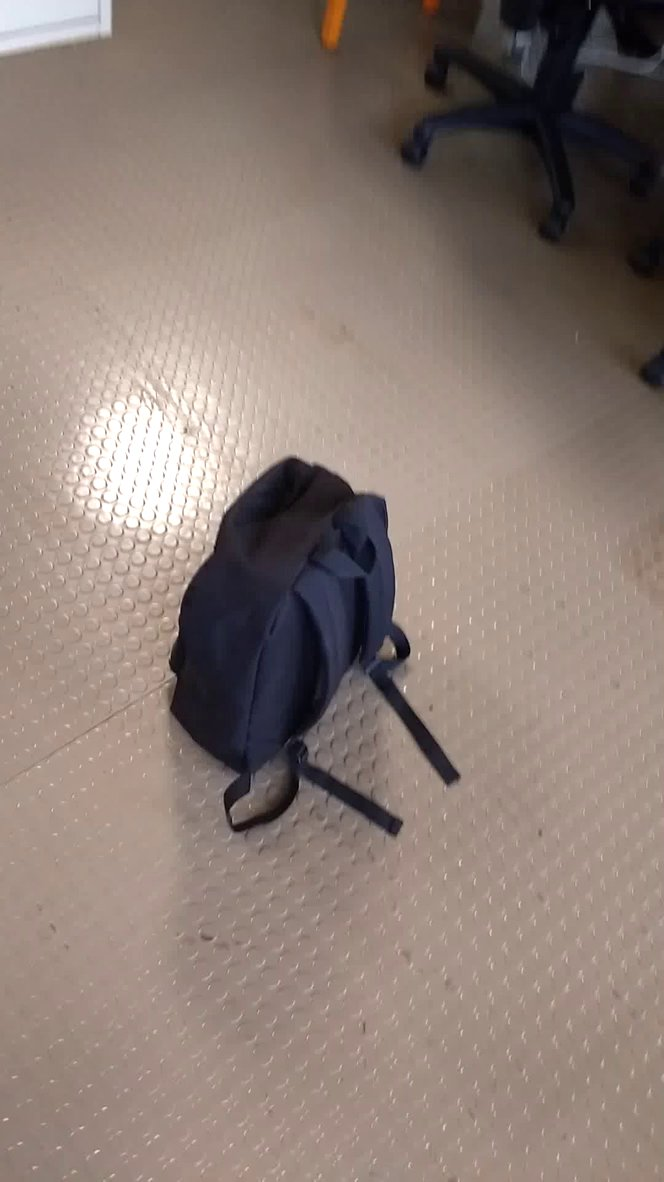bag: (164, 444, 467, 852)
